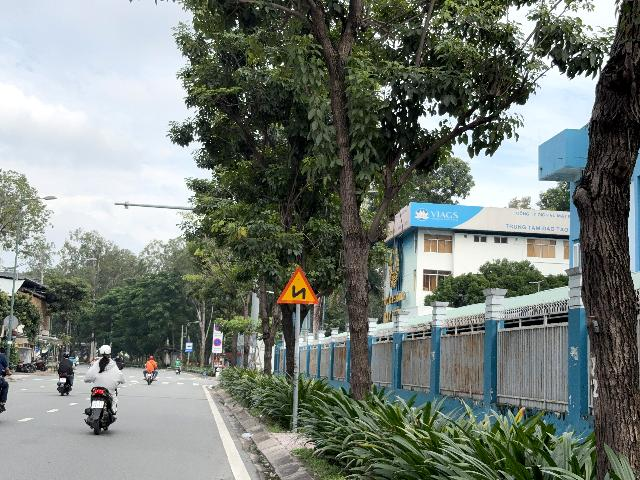nhieu-cho-ngoat-nguy-hiem-lien-tiep: (277, 267, 319, 303)
